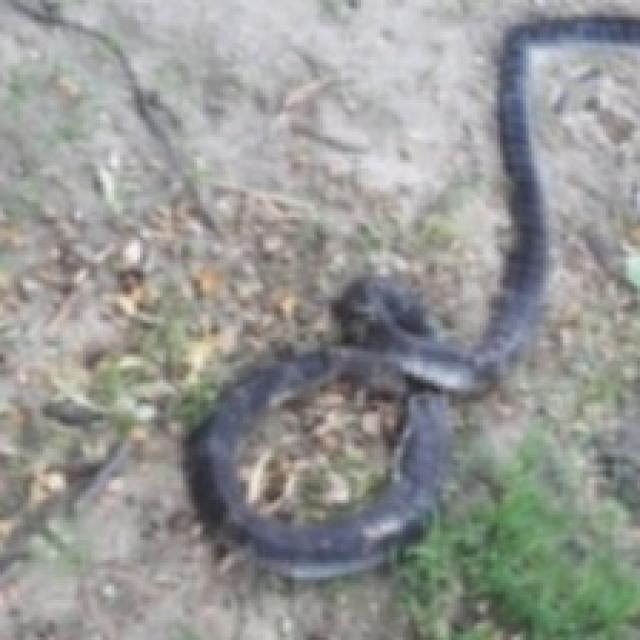king cobra: (186, 17, 637, 577)
